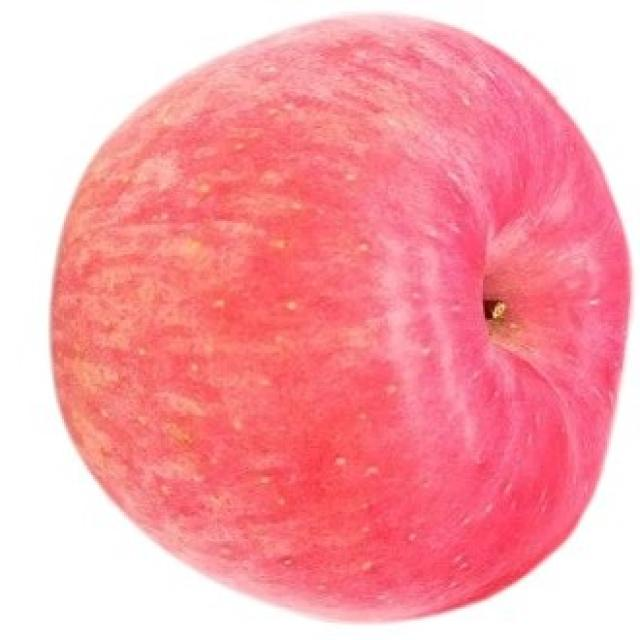100-_ripeness: (56, 14, 636, 629)
